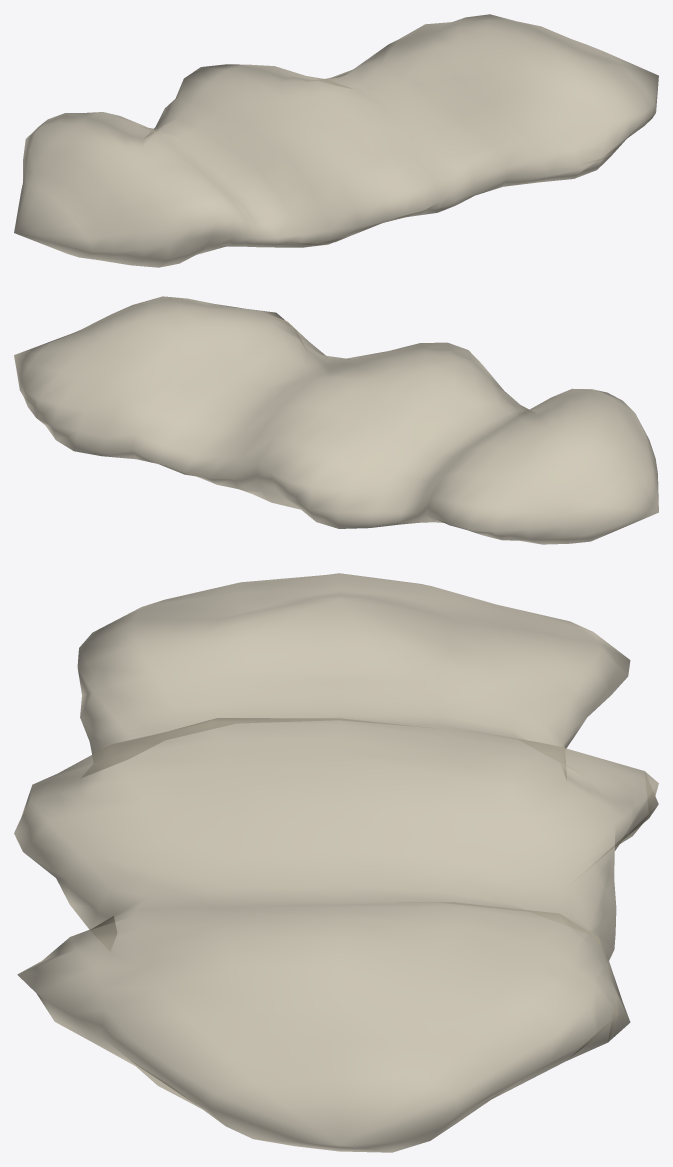
The model's file is sky_cloud.glb.
3 views of the same model, one above another, from view 1: azimuth 30°, elevation 25°; view 2: azimuth 150°, elevation 25°; view 3: azimuth 270°, elevation 25° (orthographic). The views are drawn at different scales.
Parts seen in each view (by area): view 1: CloudHull; view 2: CloudHull; view 3: CloudHull.
Part boxes in pixels (<box>): CloudHull: <box>14,14,658,267</box>; CloudHull: <box>14,296,658,544</box>; CloudHull: <box>14,573,658,1152</box>.
Bounding box in the file's own units: 80 × 12 × 40.
